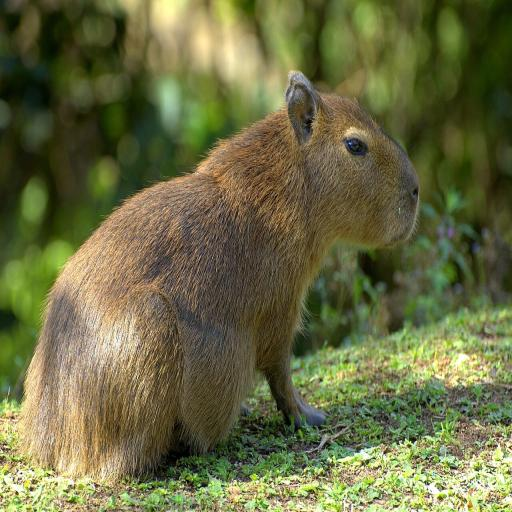capybara: (25, 49, 455, 512)
